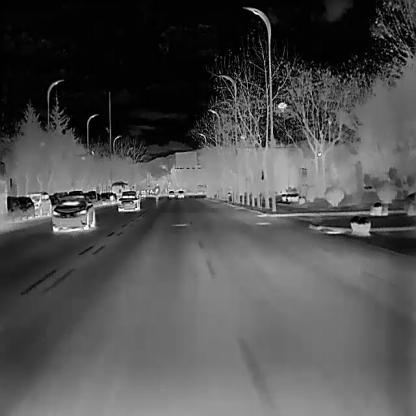car: (49, 196, 97, 232), (7, 196, 35, 223), (30, 189, 50, 217), (117, 190, 141, 212), (111, 180, 128, 201), (86, 189, 101, 205), (102, 192, 115, 204), (177, 190, 183, 197), (169, 190, 174, 198)
